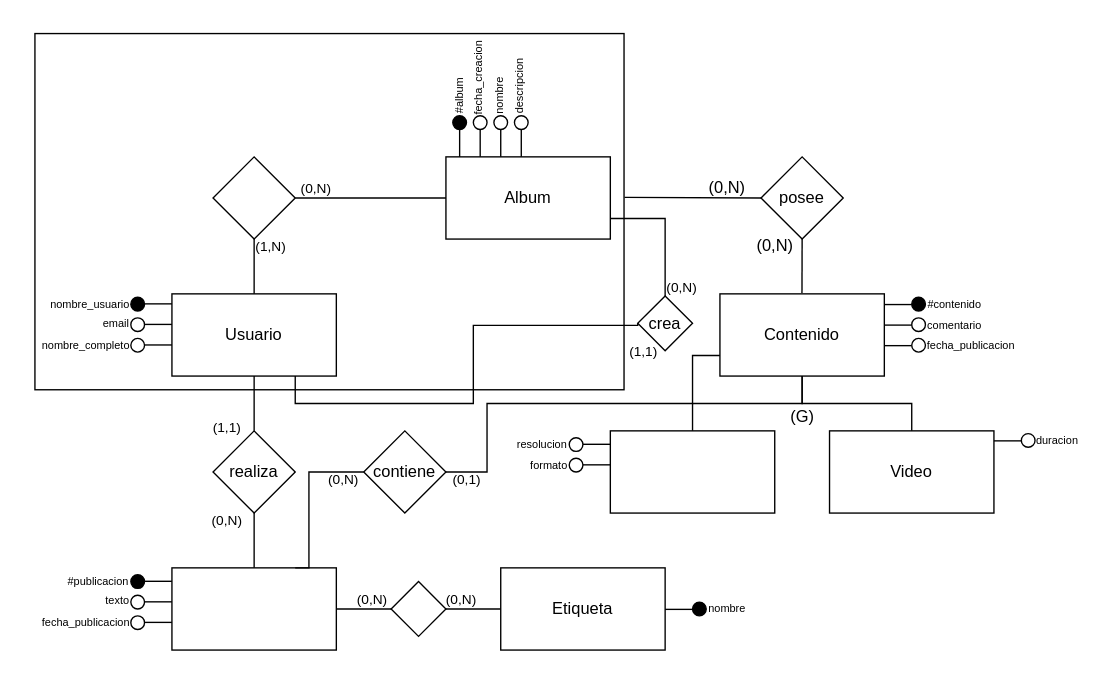
The diagram is 1114 pixels wide and 674 high, and some of its shapes have lost their labels. The shapes that lost their labels are listed below. From the top down, each one's centre as x and y in pixels, then its label:
(x=253, y=197): participan
(x=692, y=471): Foto
(x=253, y=608): Publicacion
(x=418, y=608): tiene
